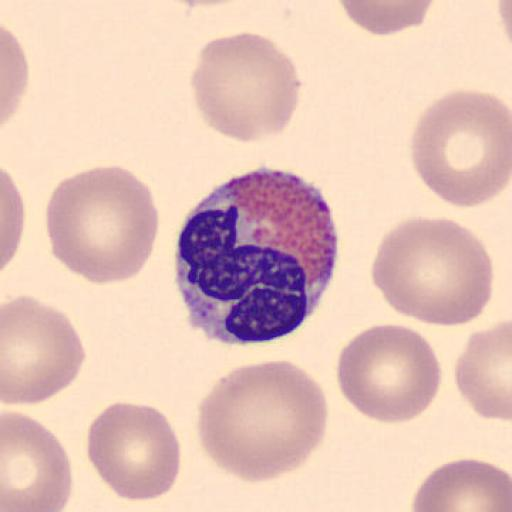RBC: (195, 359, 328, 484), (44, 163, 161, 286), (370, 215, 495, 328), (190, 30, 302, 144), (408, 87, 512, 209), (334, 322, 442, 426), (85, 400, 182, 503), (2, 294, 86, 406), (1, 410, 74, 512), (452, 318, 512, 422), (410, 455, 511, 512), (337, 0, 437, 37), (0, 24, 30, 126), (0, 167, 26, 276), (499, 0, 512, 56), (496, 0, 512, 44), (171, 0, 249, 7)
WBC: (170, 166, 343, 346)
